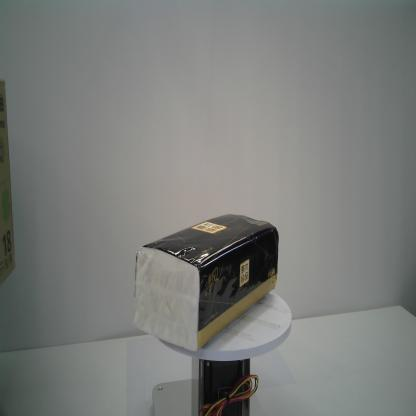Tissue: (131, 211, 280, 352)
